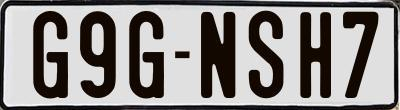7: (342, 11, 380, 99)
9: (77, 8, 117, 98)
G: (32, 11, 70, 103), (129, 10, 165, 102)
H: (297, 11, 329, 102)
N: (199, 11, 238, 100)
S: (248, 9, 288, 99)
